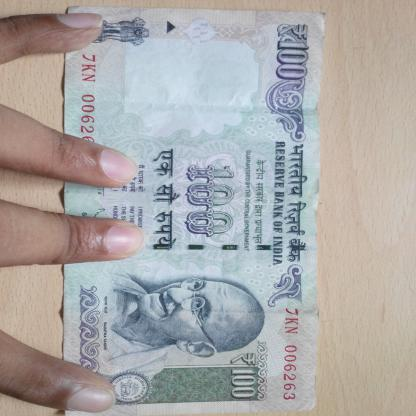Old100Front: (64, 6, 326, 416)
